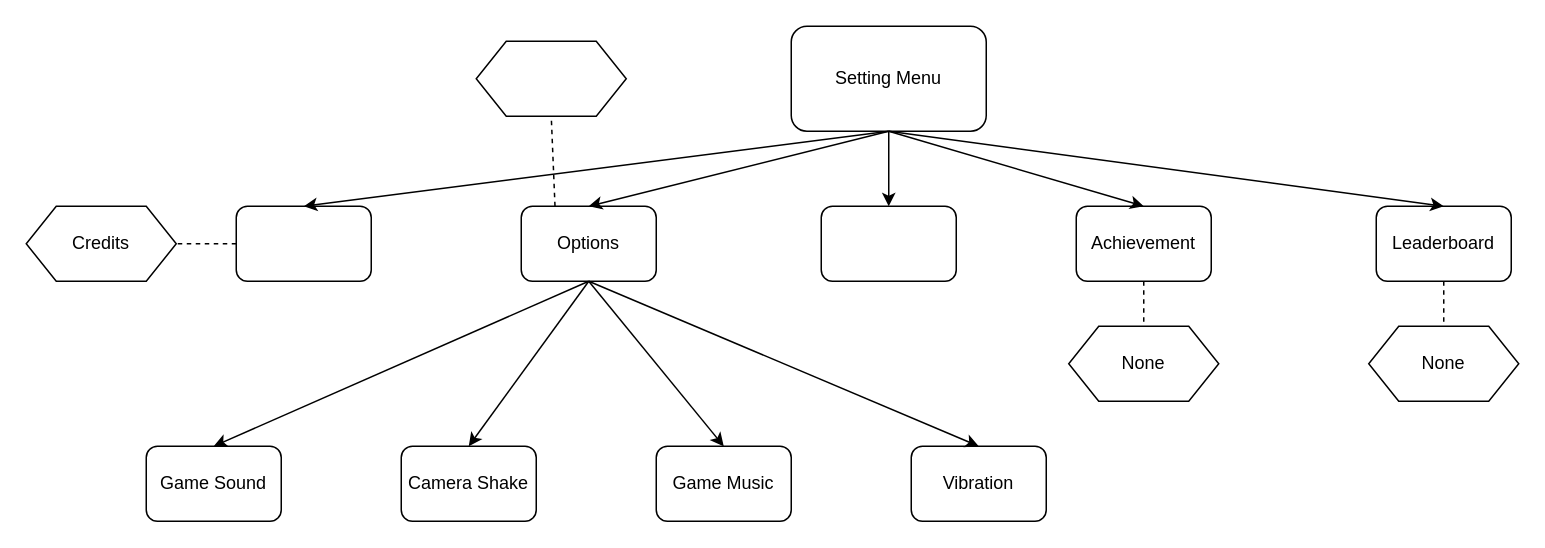
The diagram is 1545 pixels wide and 548 high, and some of its shapes have lost their labels. Each missing label, with the centre of its shape:
"Credit" belongs at [303,243].
"Document" belongs at [888,243].
"OptionsMenu" belongs at [550,78].
